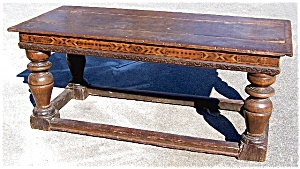obstacle: (8, 6, 292, 160)
